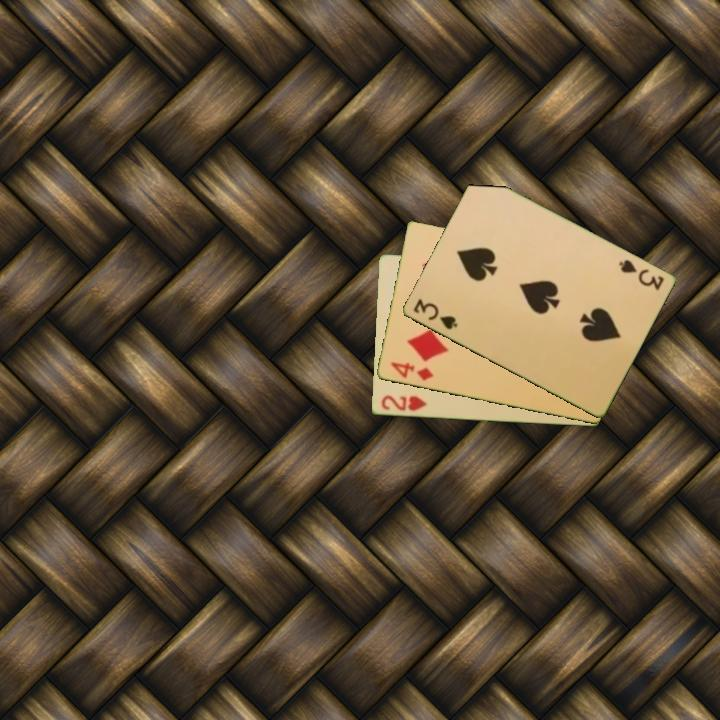2h: (377, 392, 429, 414)
3s: (614, 256, 667, 293), (409, 295, 460, 333)
4d: (387, 359, 436, 384)
